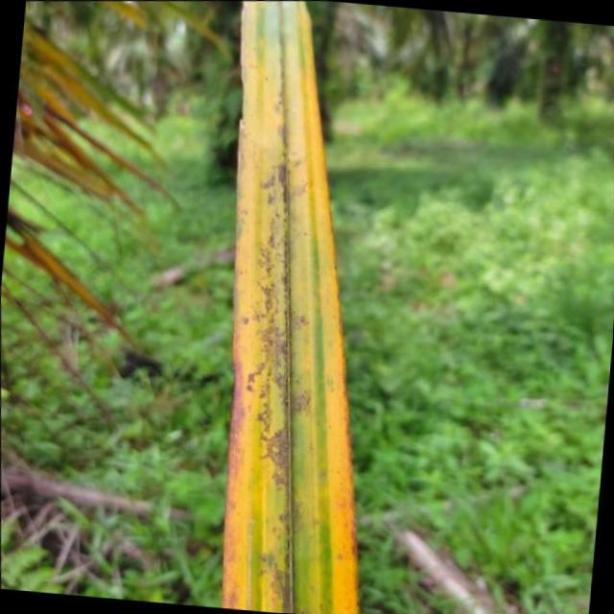Megnesium: (222, 0, 361, 614)
